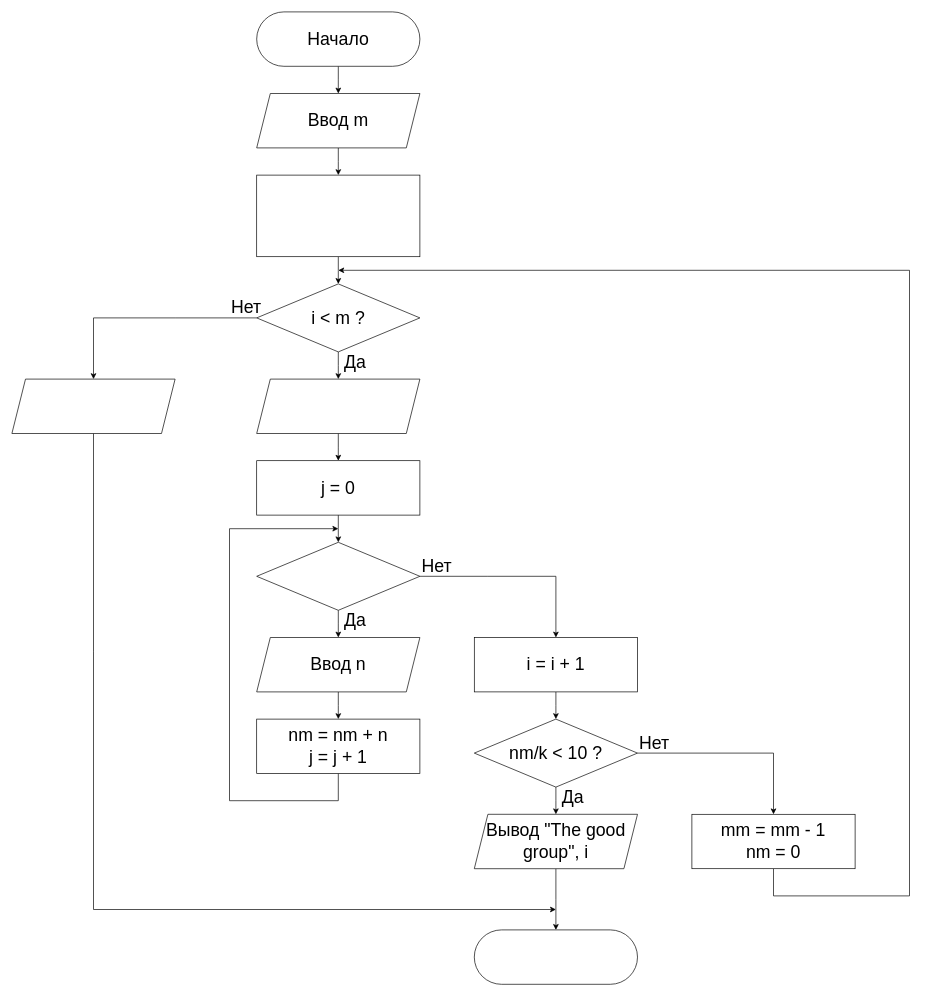
The diagram is 927 pixels wide and 996 high, and some of its shapes have lost their labels. Here are the shapes that lost their labels. From the top down, the centre of each, then its label:
[338,215]: nm = 0 mm = m i = 0
[93,406]: Вывод "No"
[338,406]: Ввод k
[338,576]: j < k
[556,956]: Конец
